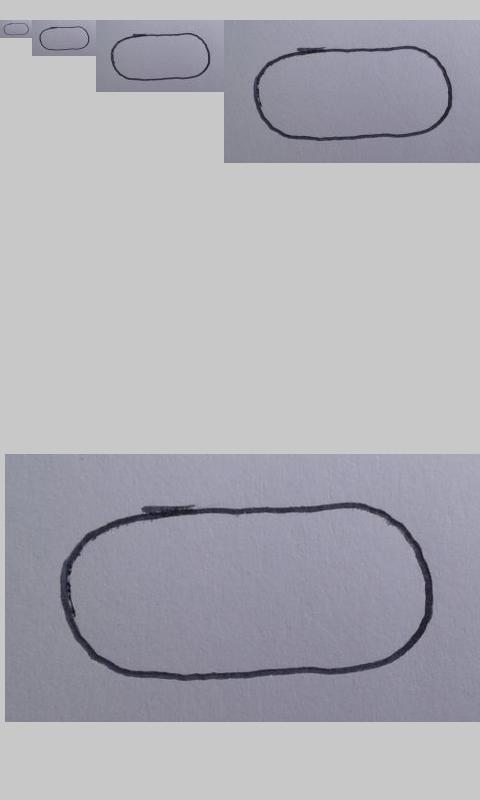chip: (60, 502, 434, 681), (253, 46, 454, 141), (110, 32, 211, 82), (39, 26, 90, 51), (2, 22, 30, 36)
